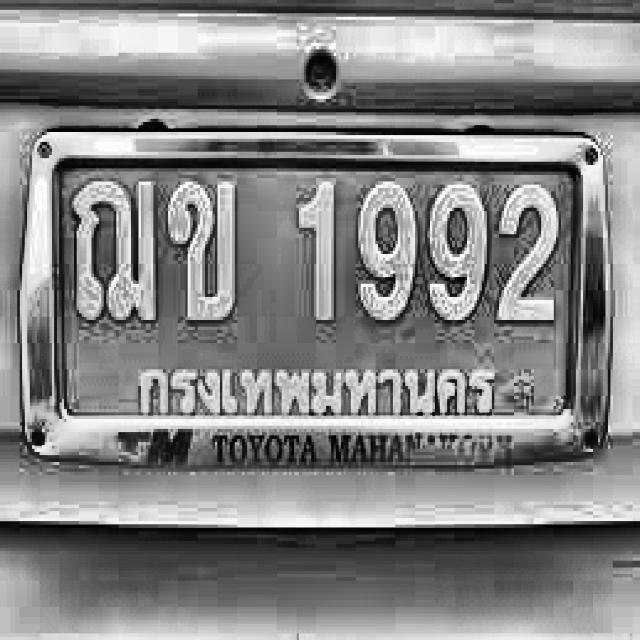license-plate: (15, 109, 635, 519)
